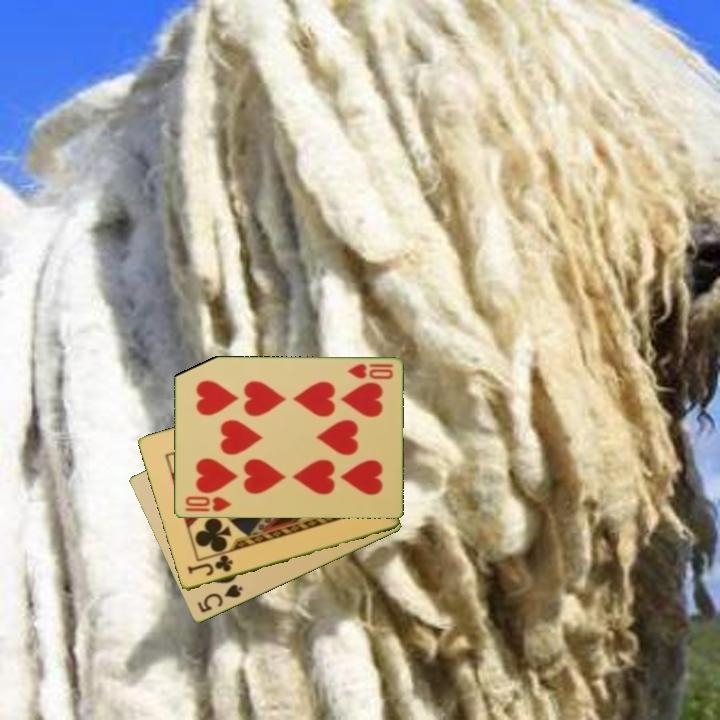10h: (181, 493, 234, 515), (344, 361, 396, 382)
5s: (194, 581, 246, 616)
Jc: (184, 552, 236, 579)
